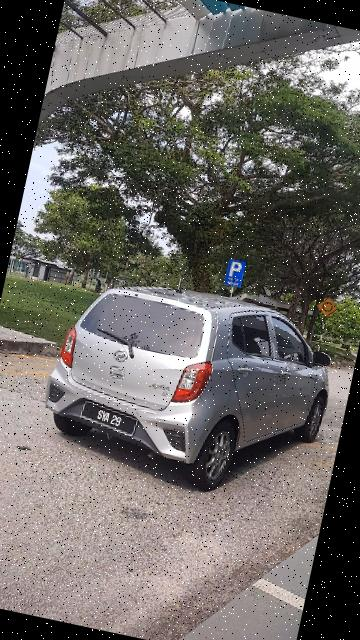License_Plate: (76, 398, 147, 441)
car: (36, 255, 350, 511)
